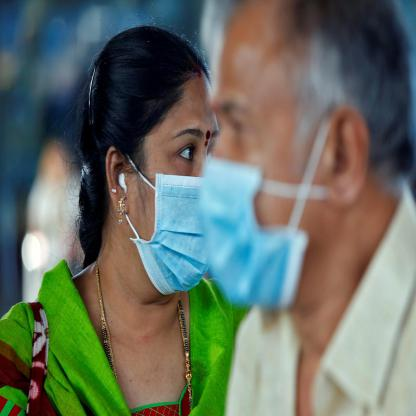Wearing_Mask: (202, 12, 344, 320), (101, 60, 215, 307)
